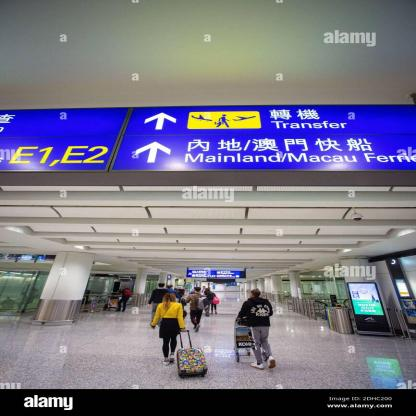airport-trolley: (227, 316, 271, 363), (102, 291, 126, 312)
